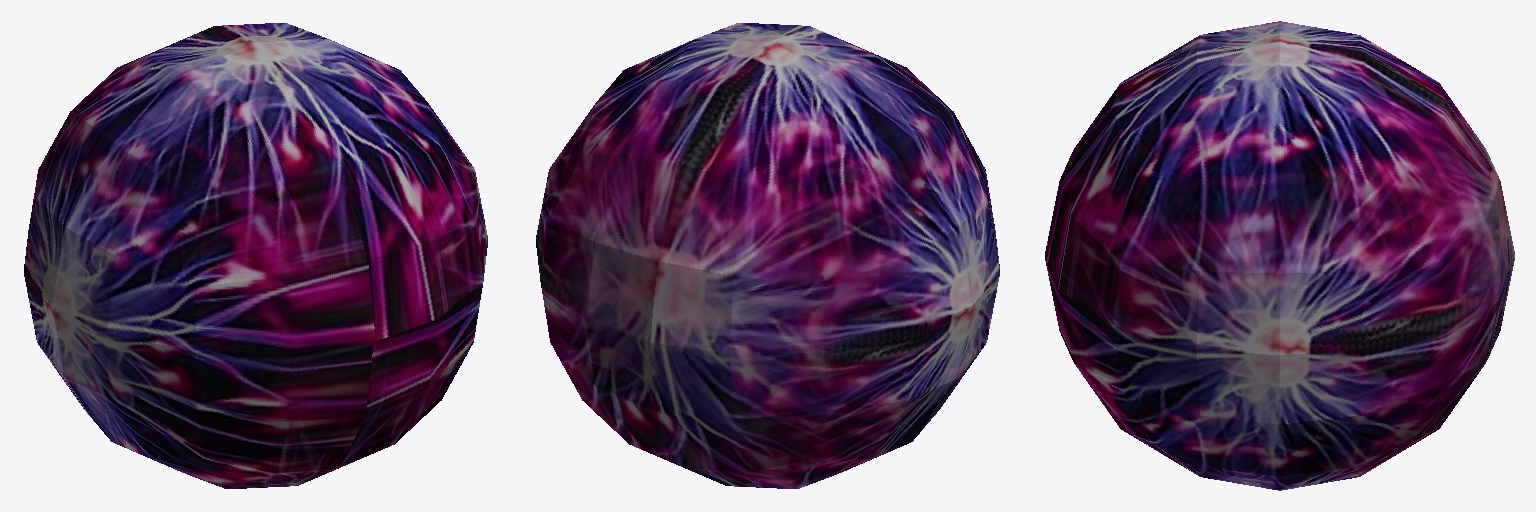
The picture shows the model from 3 angles: view 1: azimuth 30°, elevation 25°; view 2: azimuth 150°, elevation 25°; view 3: azimuth 270°, elevation 25°; orthographic projection.
Parts seen in each view (by area): view 1: Laserpoint_Roundcube.001; view 2: Laserpoint_Roundcube.001; view 3: Laserpoint_Roundcube.001.
Part boxes in pixels (left/top/right/bottom): Laserpoint_Roundcube.001: left=24, top=23, right=487, bottom=488; Laserpoint_Roundcube.001: left=536, top=23, right=999, bottom=488; Laserpoint_Roundcube.001: left=1045, top=21, right=1514, bottom=490.
Bounding box in the file's own units: 0.1282 × 0.1282 × 0.1282.
Materials: 1 (1 with a texture image).